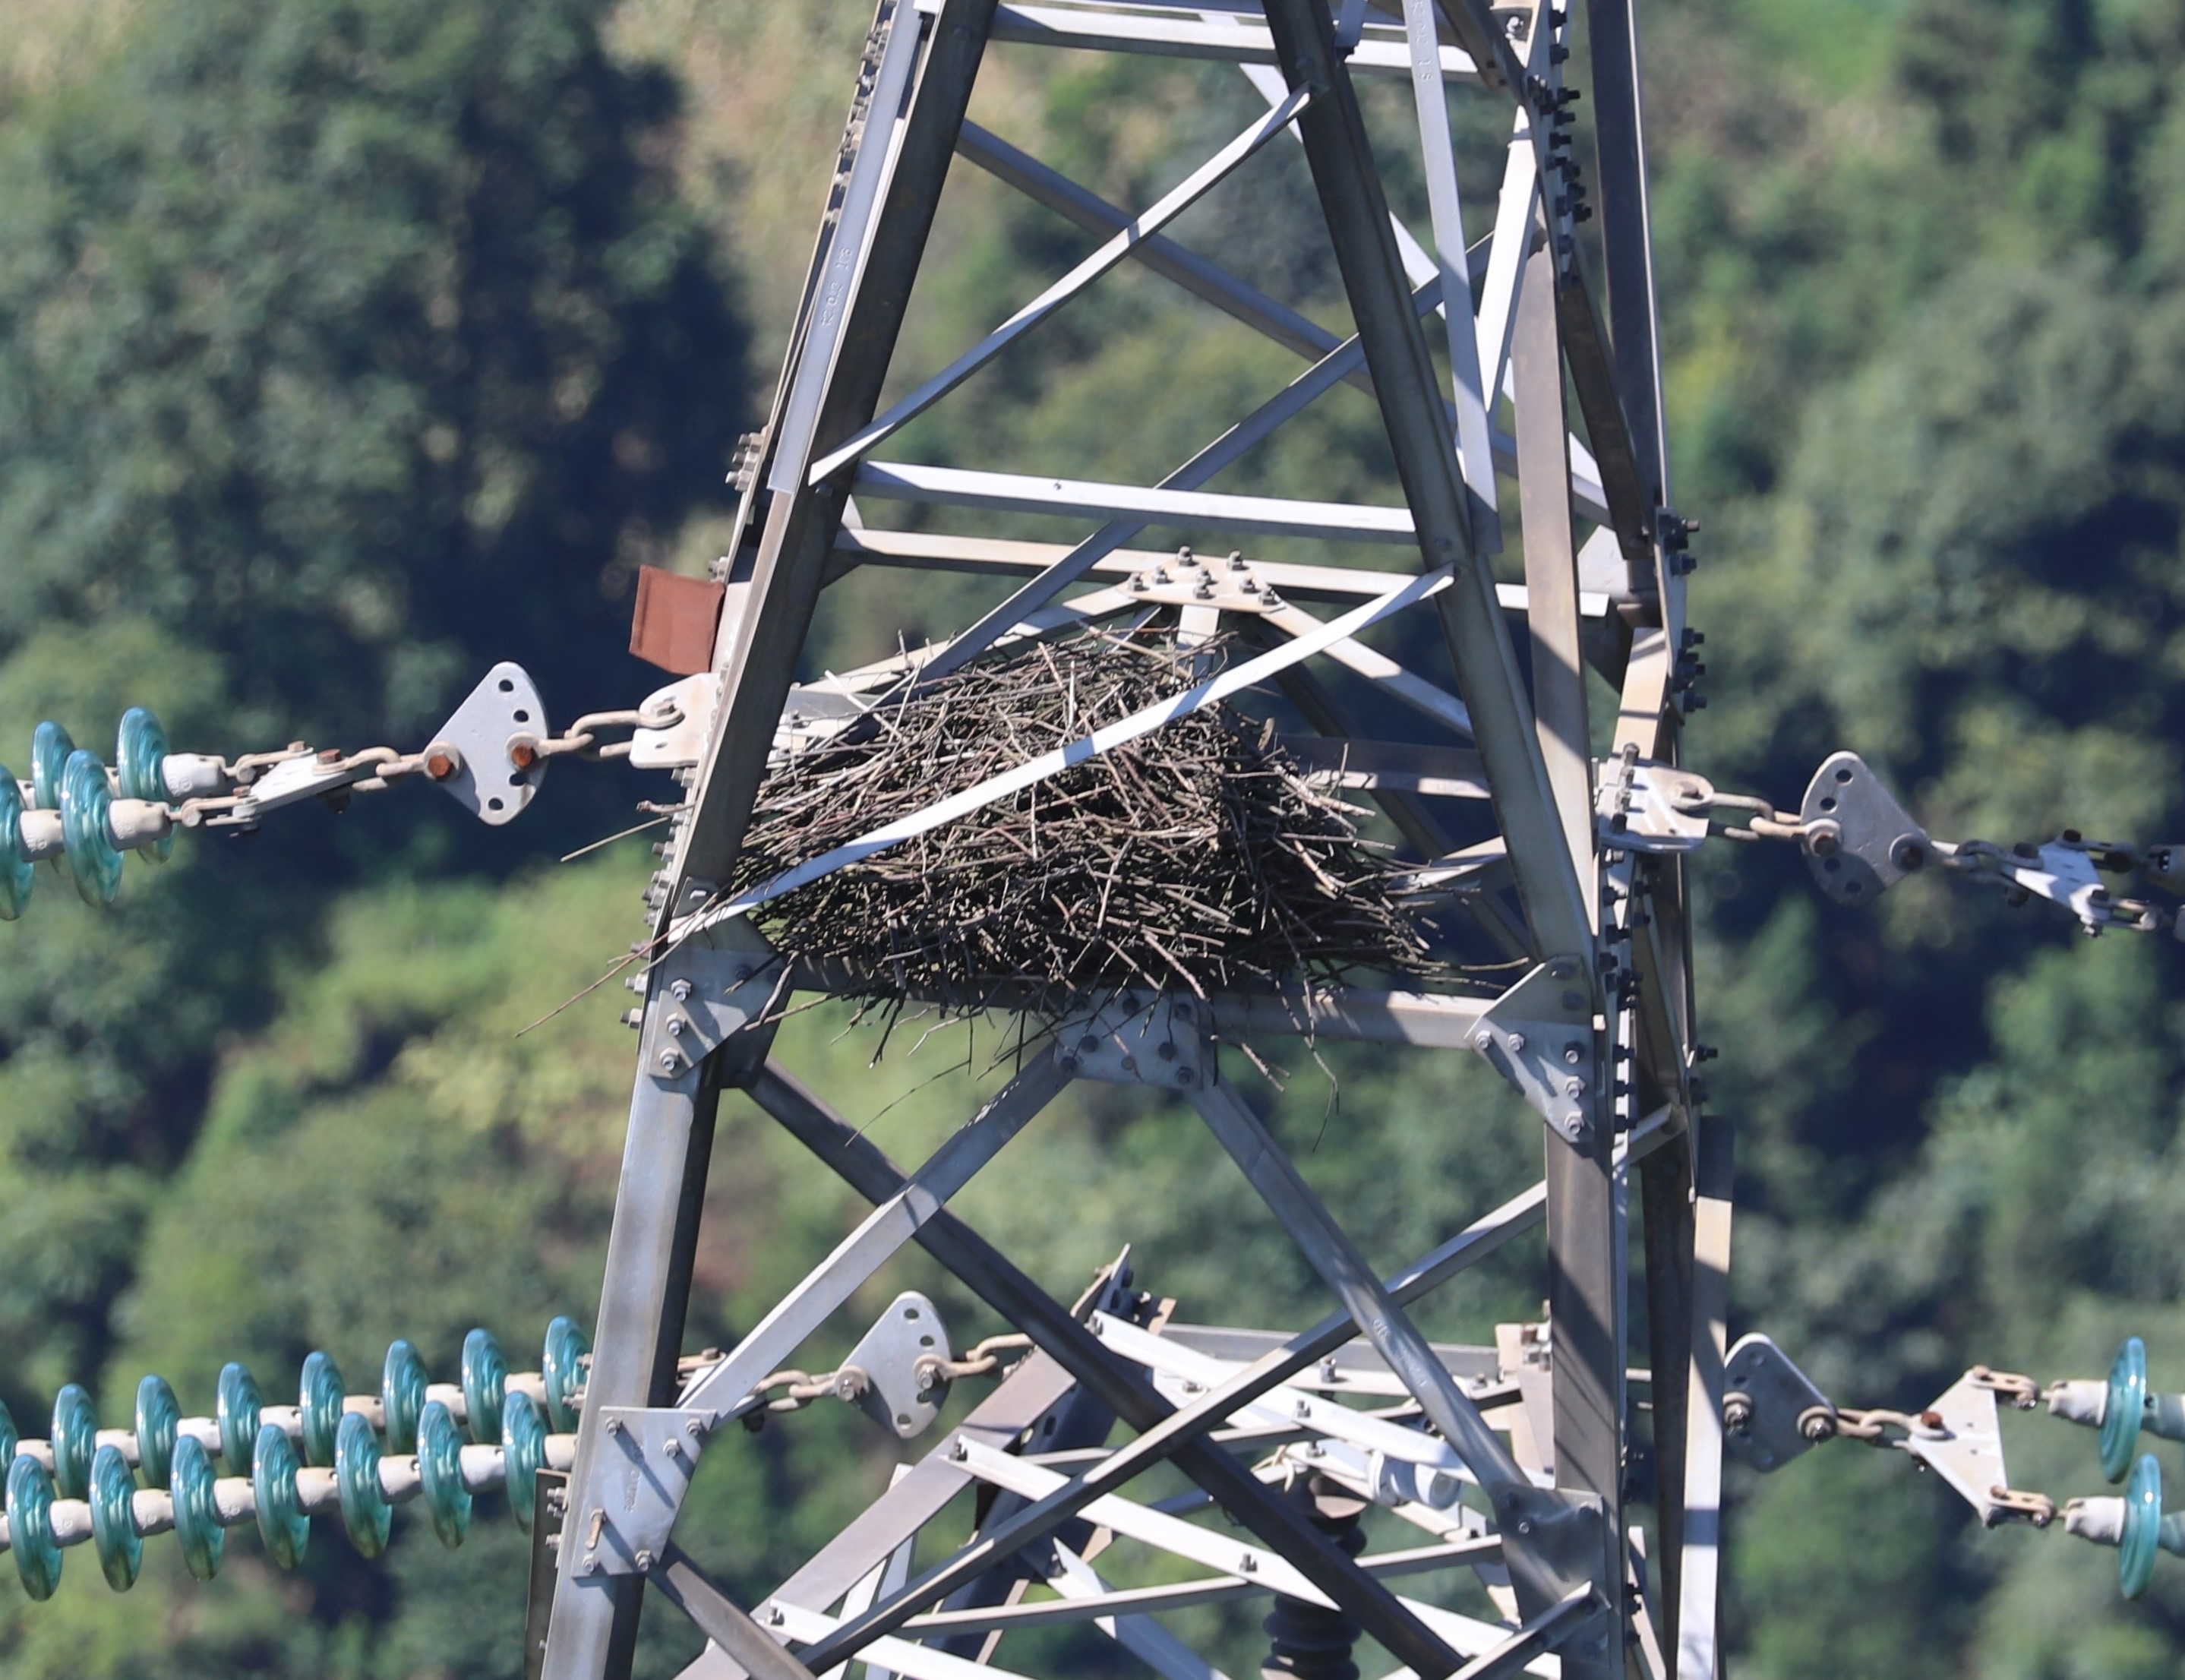niaowo: (740, 593, 1504, 1064)
